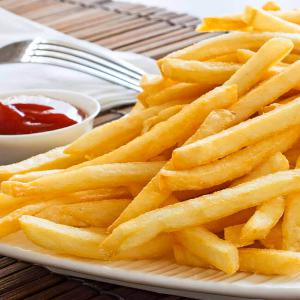fries_350cal: (124, 5, 299, 273)
